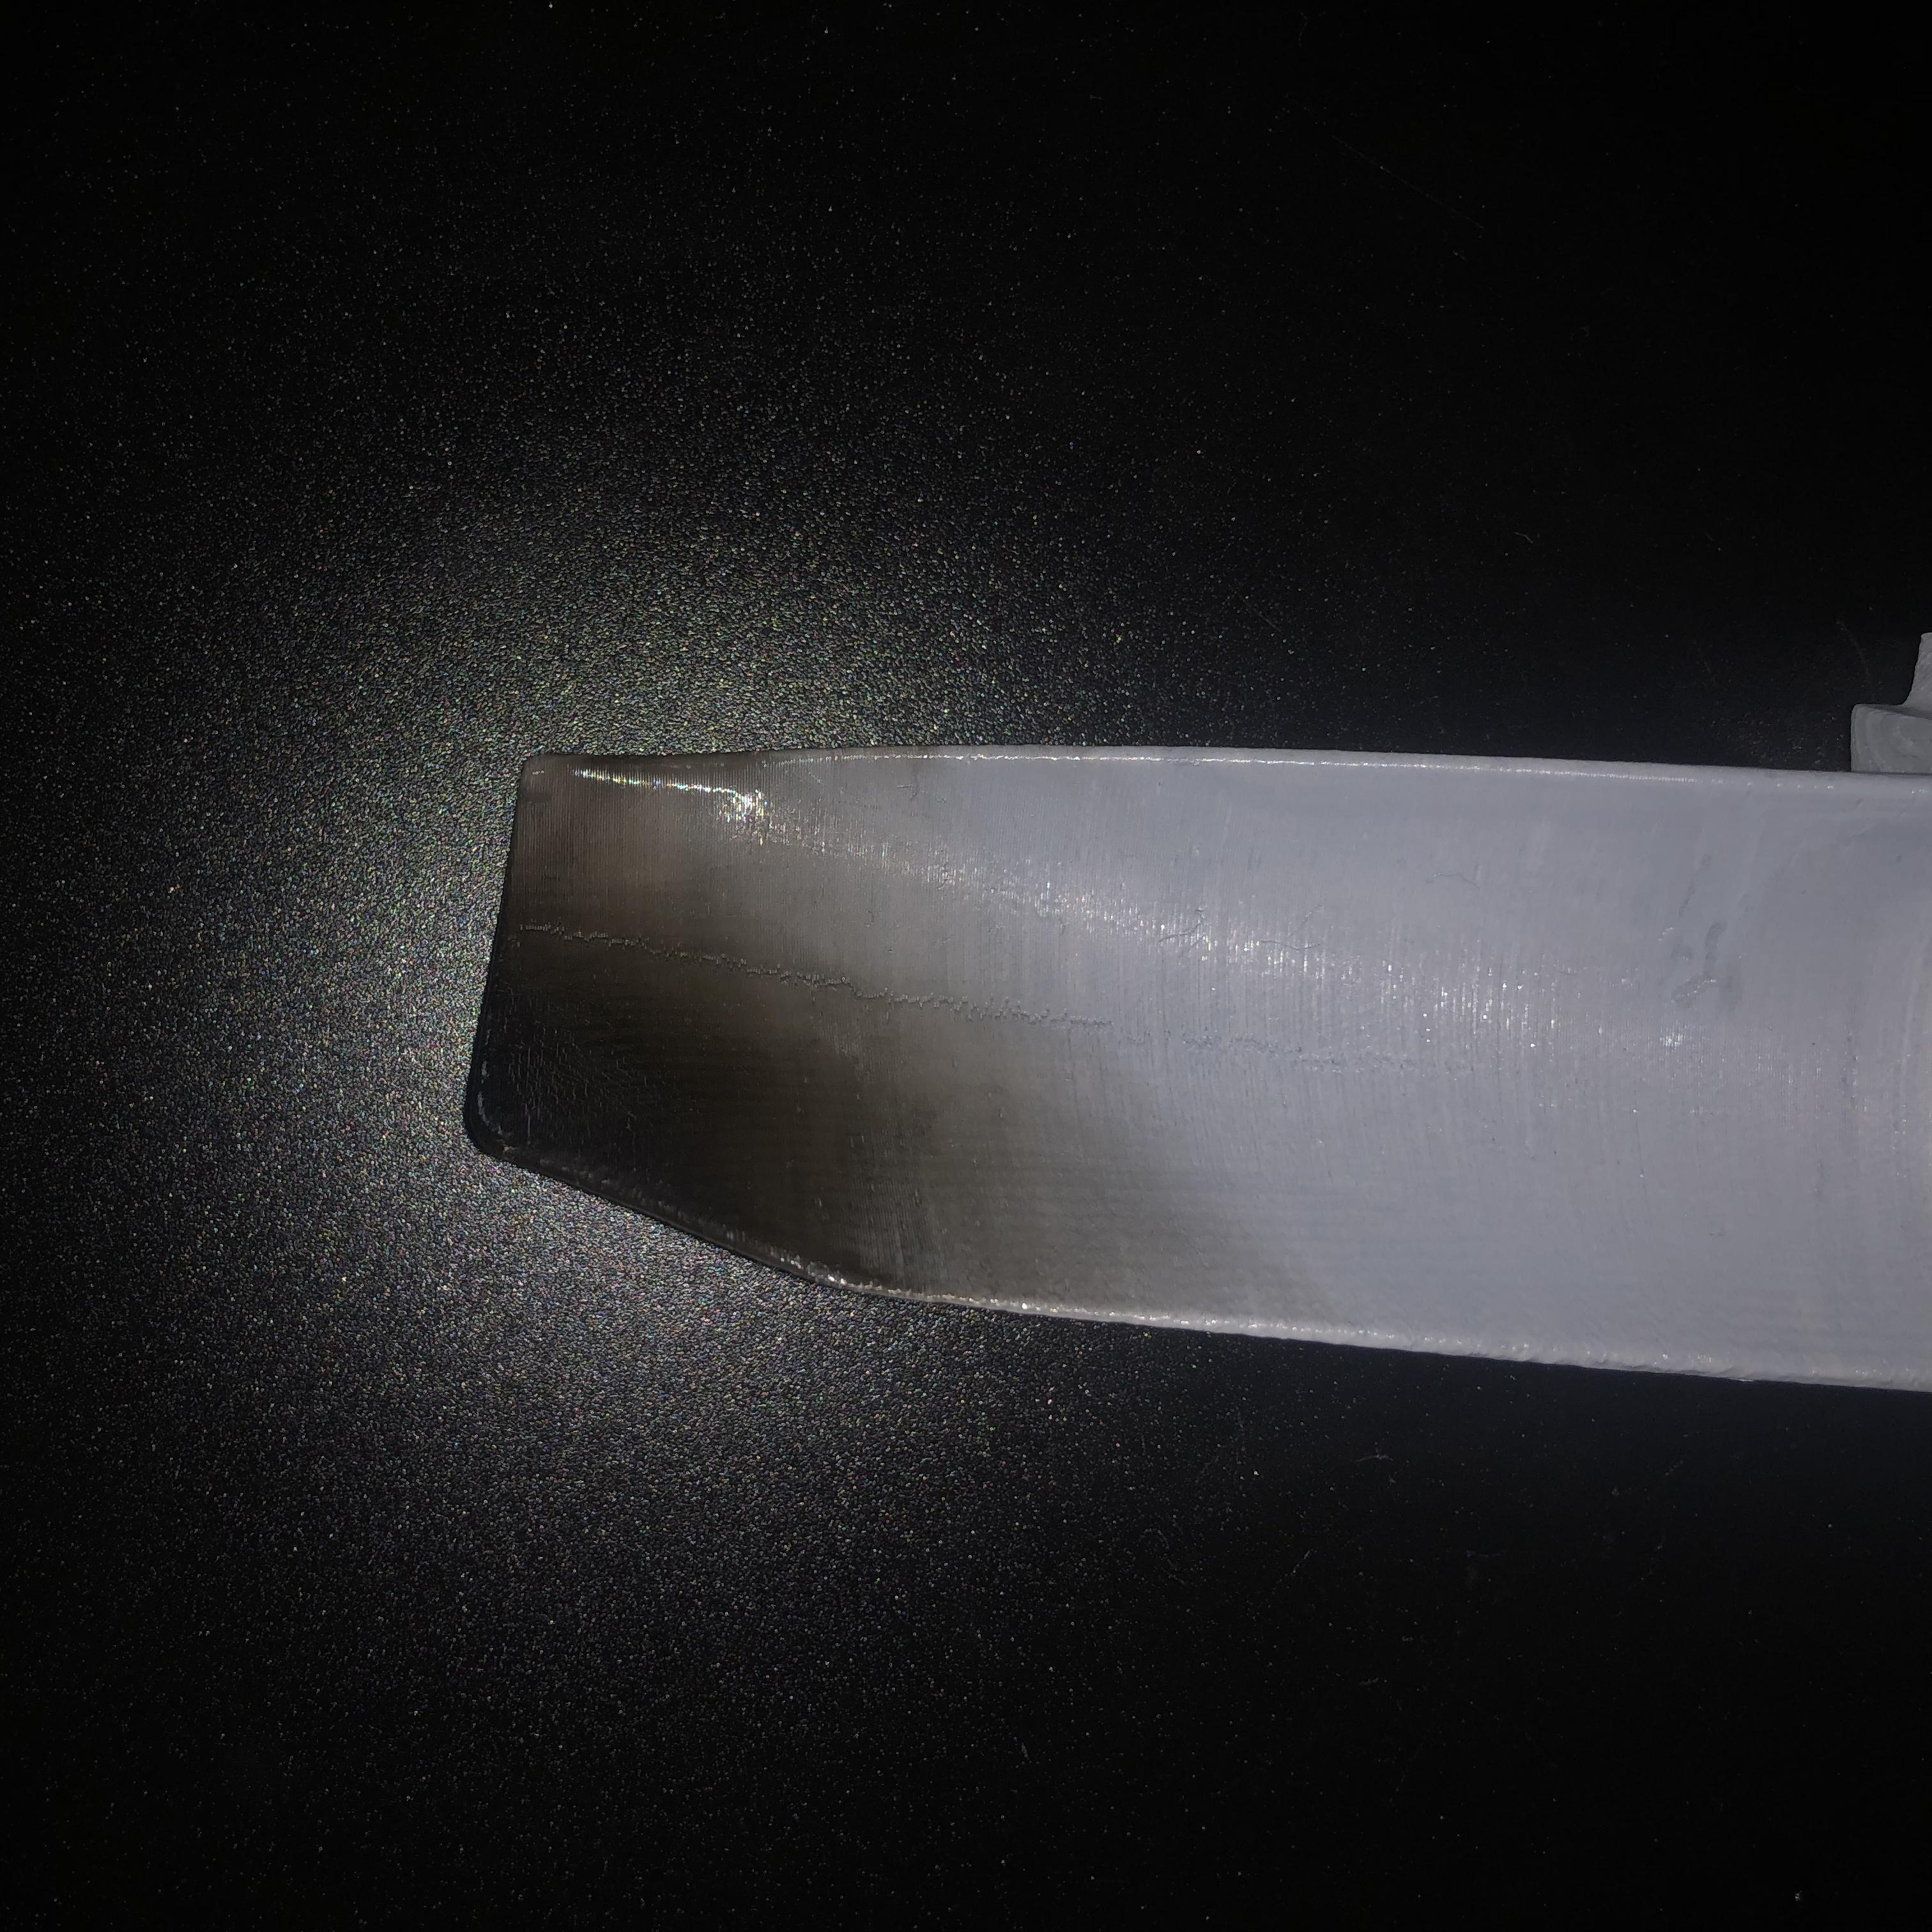ablation: (504, 759, 968, 1283)
